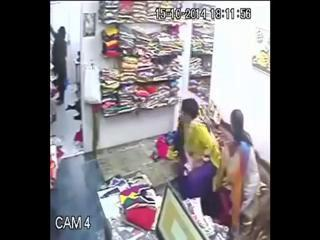shoplifting: (178, 98, 222, 174)
